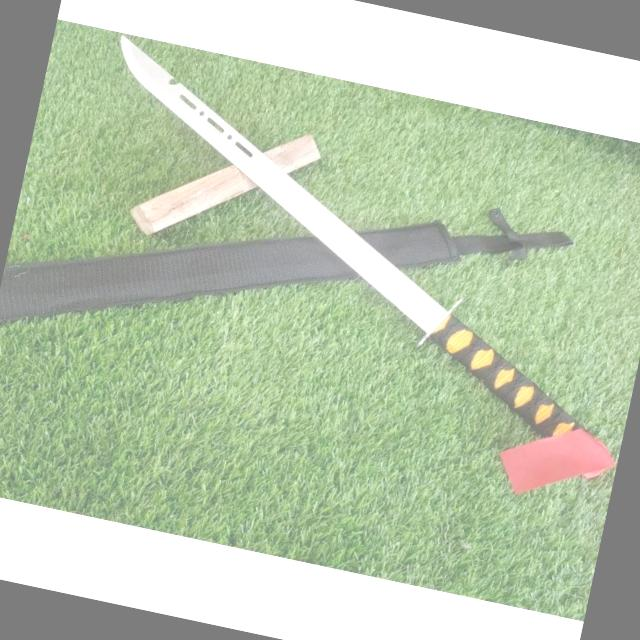short sword: (32, 28, 640, 508)
